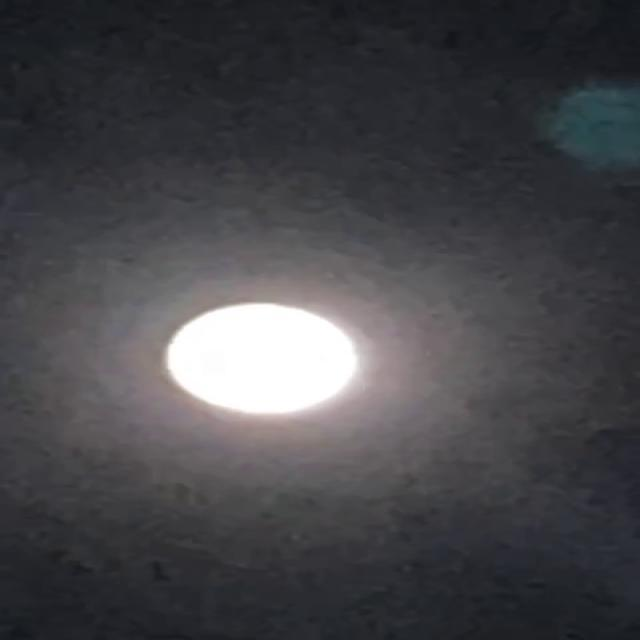moon: (146, 290, 370, 434)
